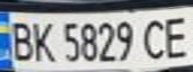2: (97, 18, 118, 63)
5: (57, 18, 81, 63)
8: (78, 18, 100, 64)
9: (115, 17, 139, 63)
B: (6, 17, 36, 63)
C: (136, 15, 172, 62)
E: (157, 11, 193, 60)
K: (27, 17, 57, 64)
